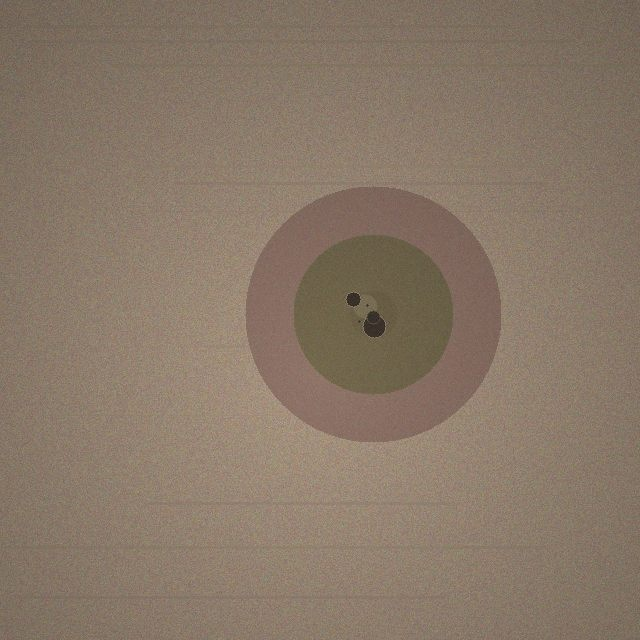shrinkage: (245, 186, 501, 442)
